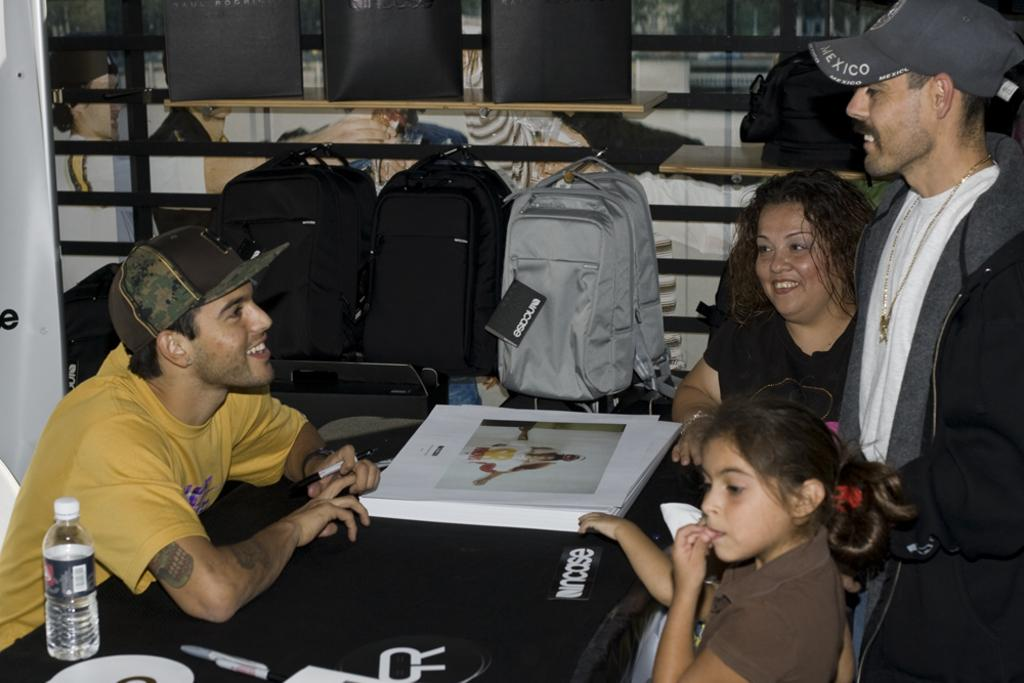Luggage-and-bags: (483, 163, 686, 410), (208, 147, 377, 368), (373, 157, 511, 381), (735, 53, 879, 174), (482, 0, 639, 103), (319, 0, 463, 101), (173, 0, 301, 103), (288, 115, 408, 183)
